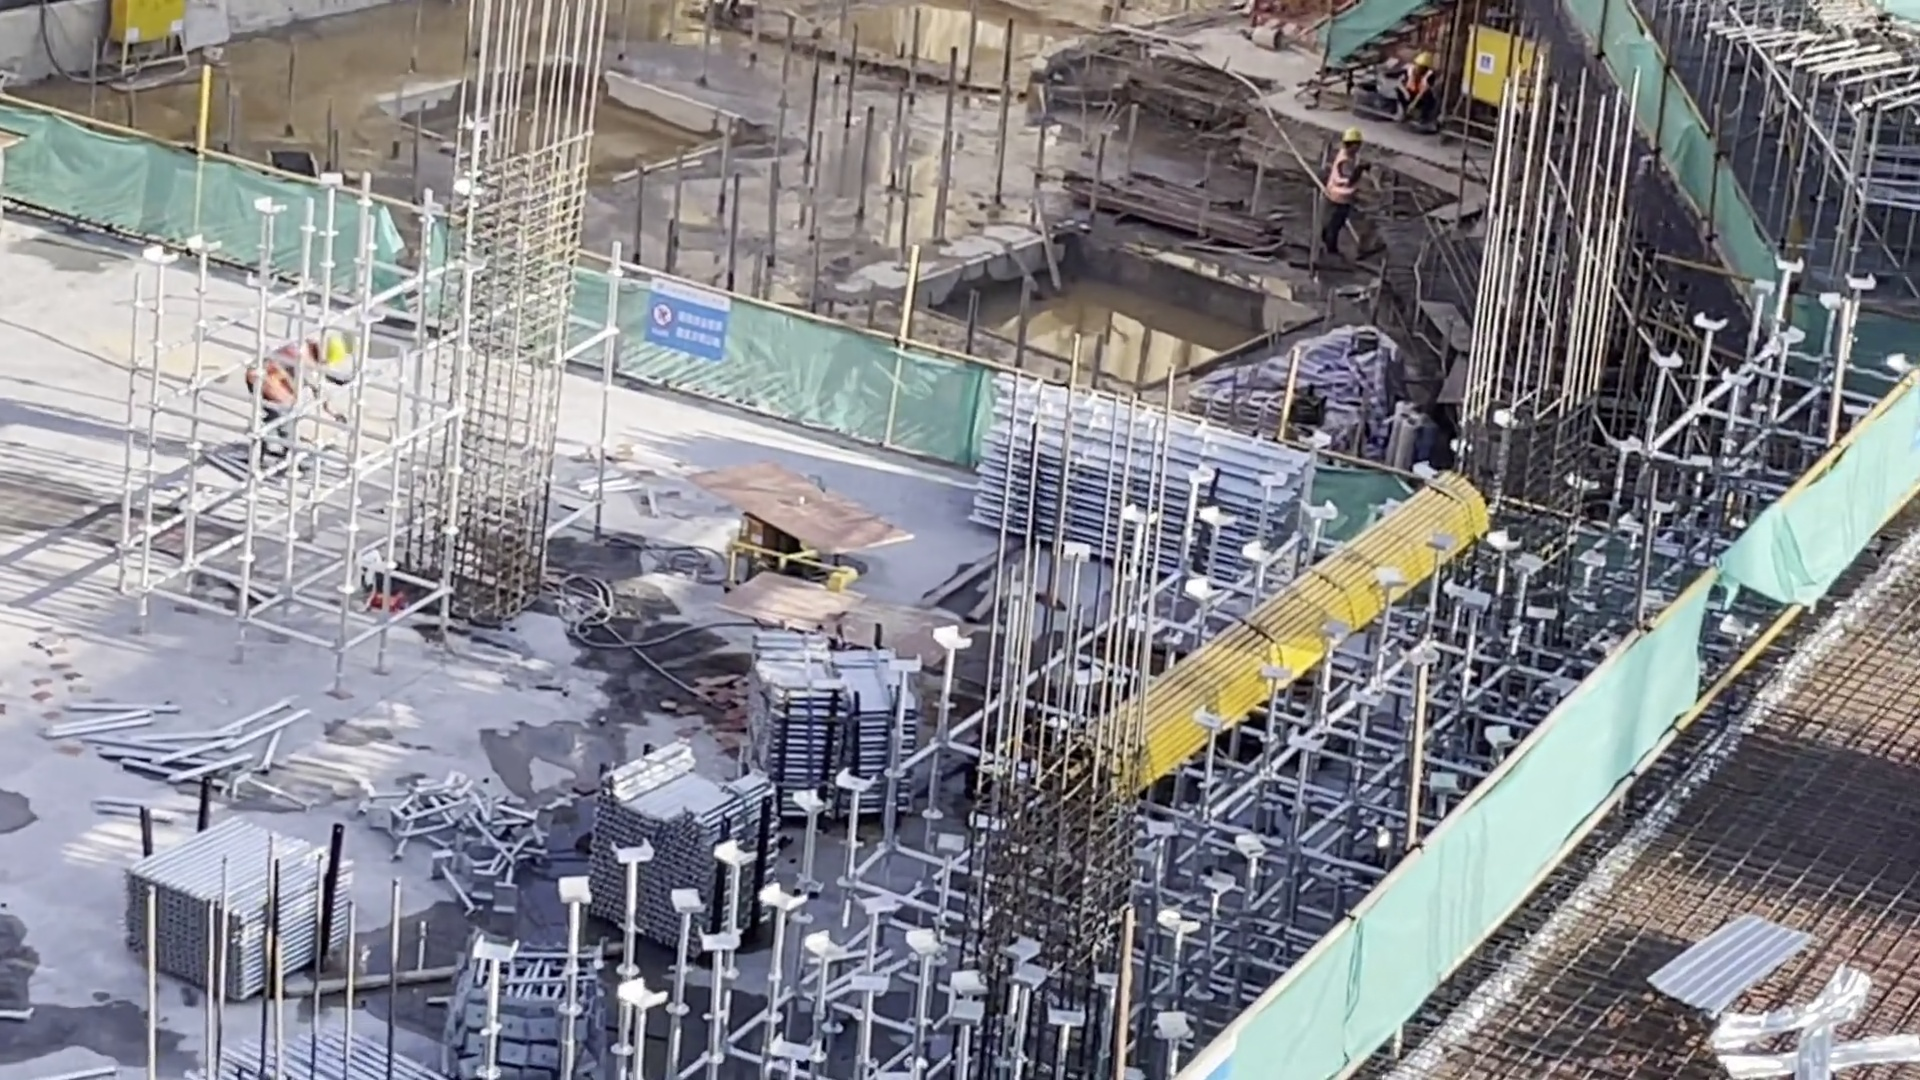cutter: (709, 468, 889, 578), (741, 578, 961, 659)
ebox: (102, 1, 188, 69), (1471, 32, 1550, 95)
helmet: (319, 329, 348, 361), (1341, 131, 1369, 153), (1416, 56, 1434, 70)
person: (243, 323, 347, 465), (1319, 132, 1369, 261), (1394, 55, 1443, 128)
scaffold: (129, 820, 329, 982), (603, 769, 773, 958), (1001, 436, 1247, 548), (752, 653, 897, 828), (209, 1031, 450, 1080)
slogan: (654, 282, 723, 360)
vest: (251, 340, 312, 416), (1330, 152, 1357, 201), (1403, 75, 1440, 100)
